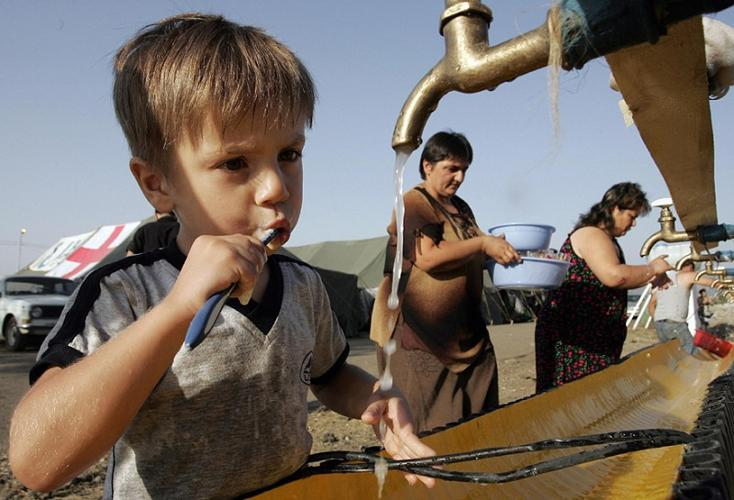person: (10, 15, 444, 500)
